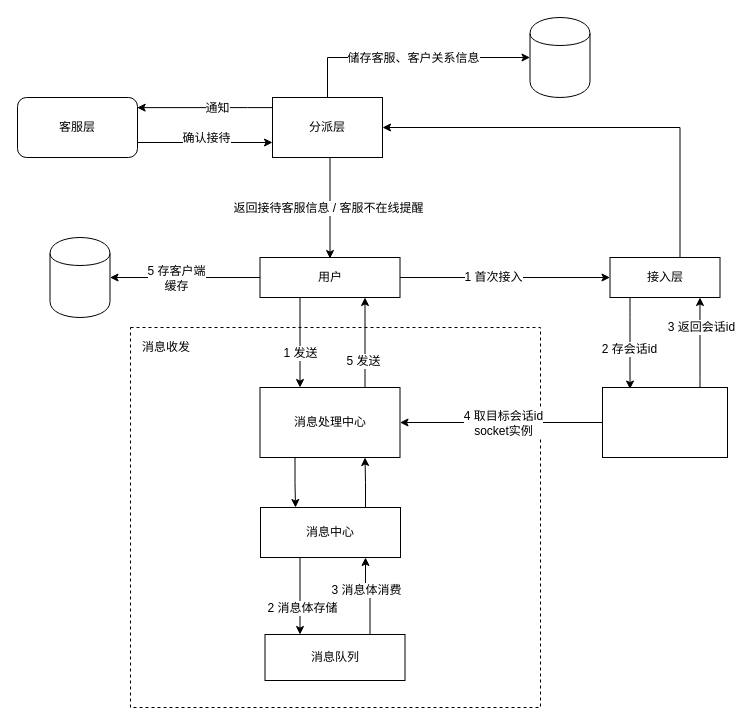
Image size: 752x725. Some labels were removed from this diagram. The centre of each missing label's shape, as x and y in pixels:
会话存储中心 （可以统计在线会话）: the point at 665,422
关系中心: the point at 559,57
客户端 缓存: the point at 79,277
